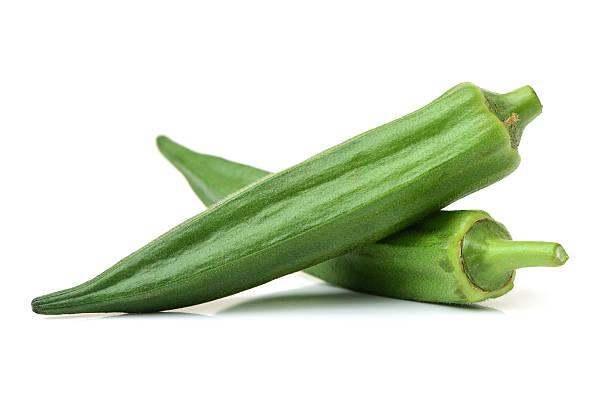okra: (31, 80, 547, 315), (300, 208, 569, 305)
